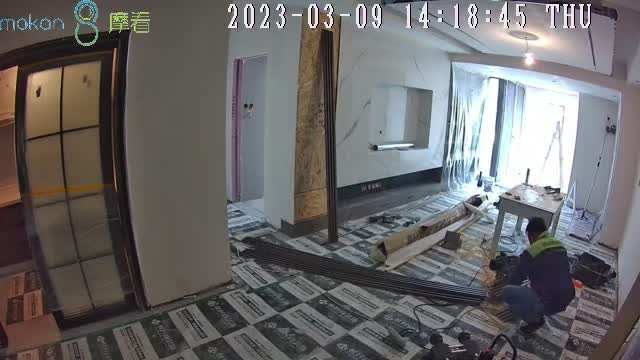people: (504, 218, 575, 333)
window: (487, 81, 577, 189)
